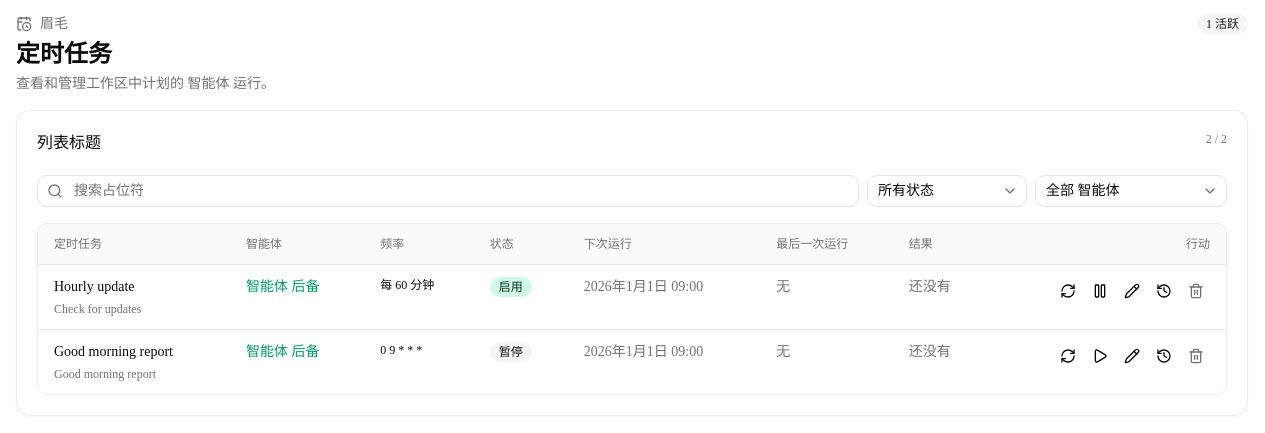
Scenario: SchedulesPage › shows an empty state when filters match nothing
Type "不存在的日程" into the field with placeholder "搜索占位符" at (448, 191), box [37,175,859,207]
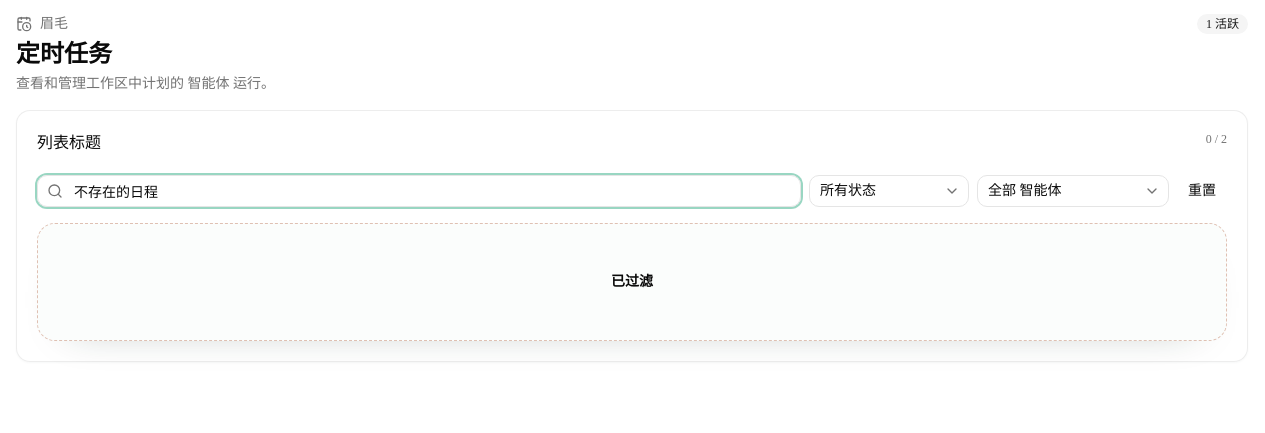
Check: the text "已过滤" is shown, box [611,272,653,292]
